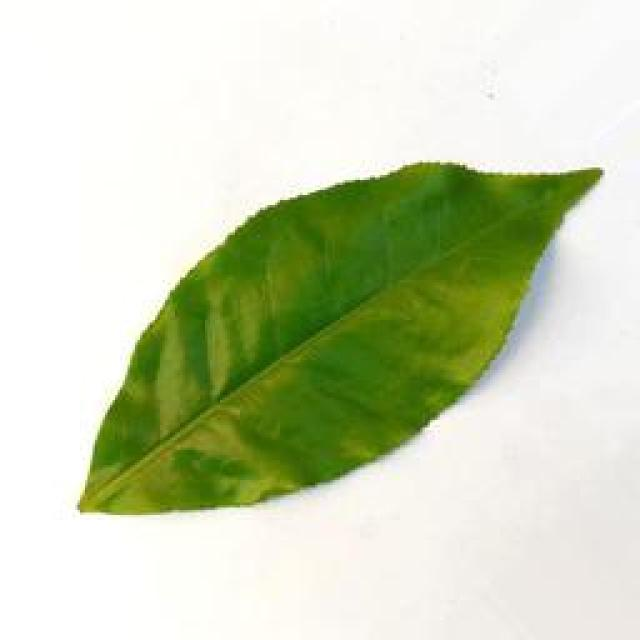Healthy: (80, 158, 598, 524)
